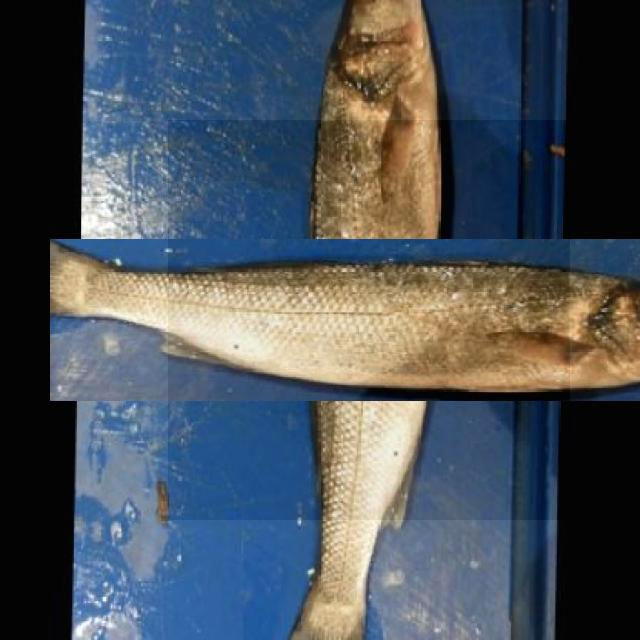Healthy Fish: (168, 120, 570, 520)
